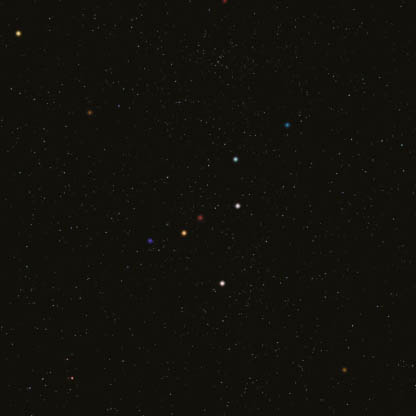Cassiopeia: (176, 211, 205, 240), (273, 111, 300, 133), (212, 273, 239, 294), (225, 197, 248, 217), (225, 152, 248, 168)
